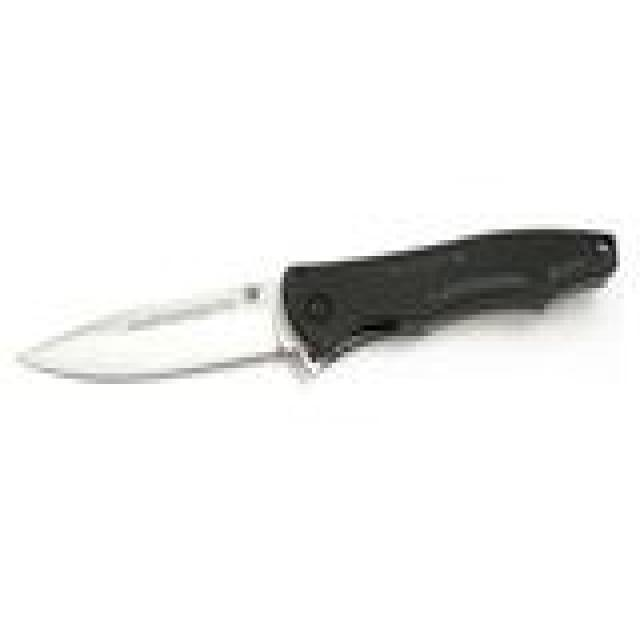Knife: (4, 217, 633, 407)
